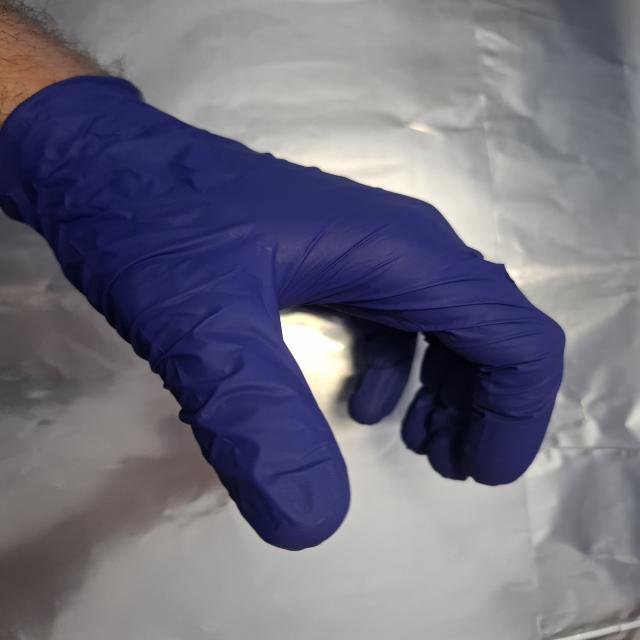glove_on: (6, 74, 574, 556)
